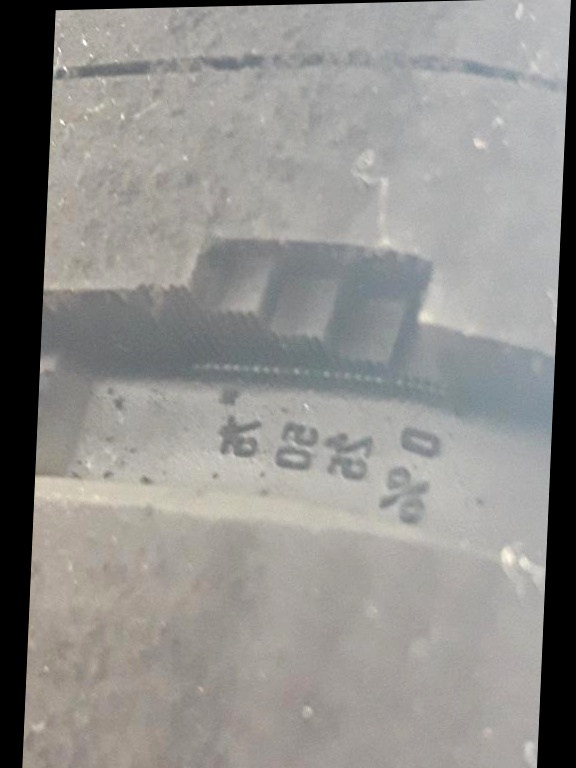temoin:95: (123, 211, 469, 431)
